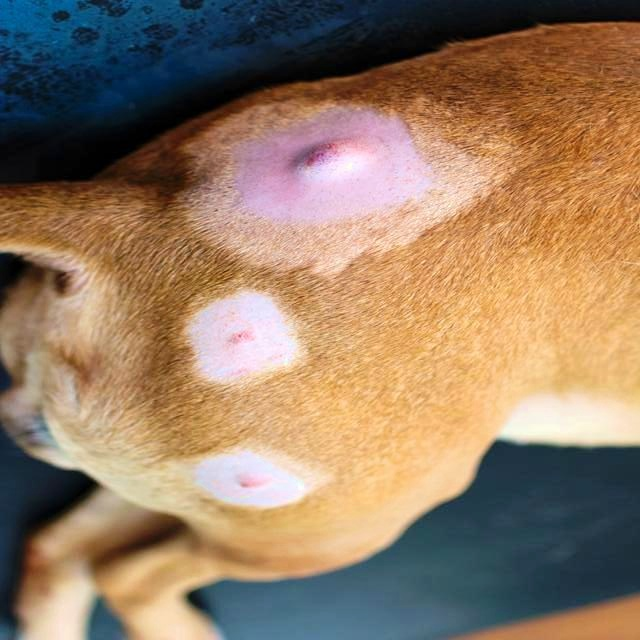lump_and_bump: (295, 138, 377, 178), (237, 468, 269, 497), (227, 327, 252, 353)
